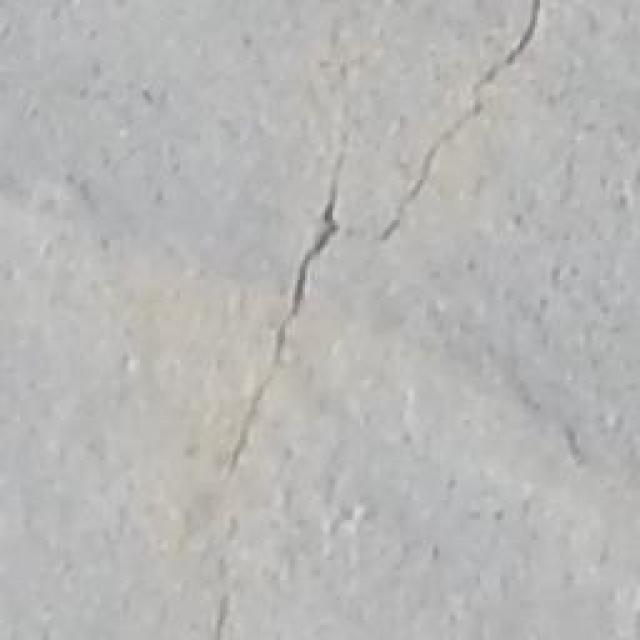concrete-crack: (215, 0, 551, 640)
